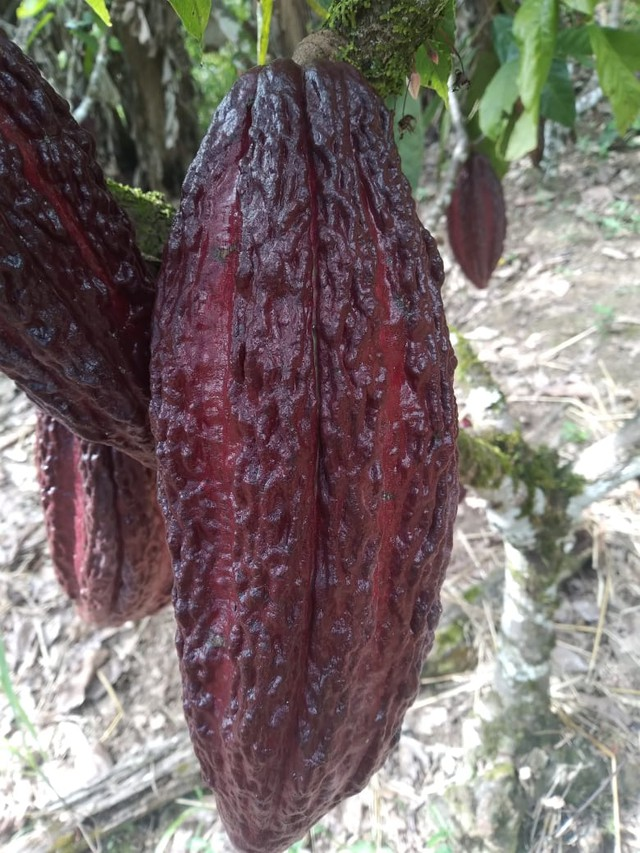Health: (135, 34, 482, 853)
